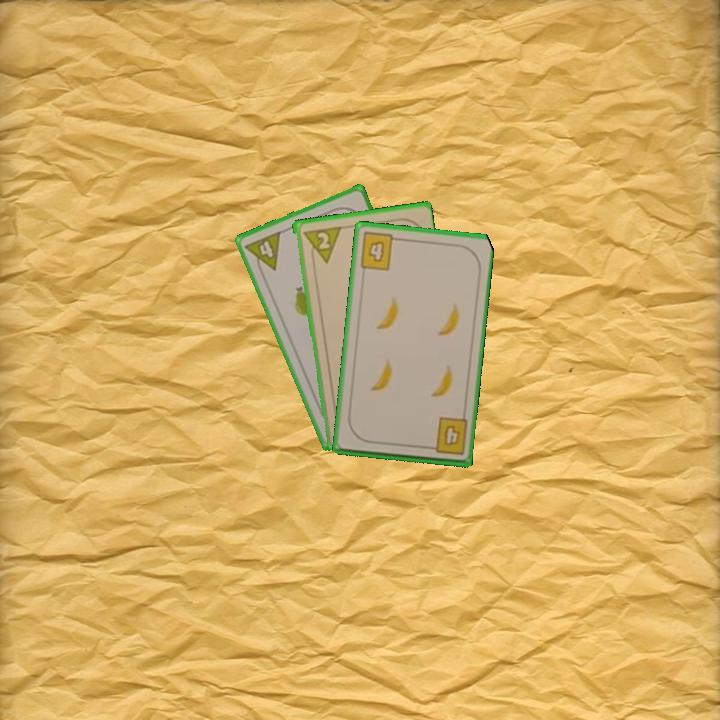2p: (298, 223, 343, 267)
4b: (356, 229, 403, 273), (423, 414, 470, 458)
4p: (241, 227, 284, 278)
